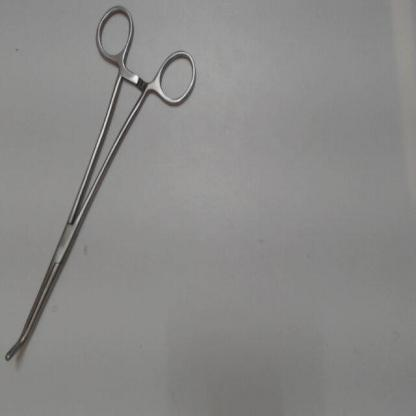Lahey Forceps: (1, 2, 202, 371)
